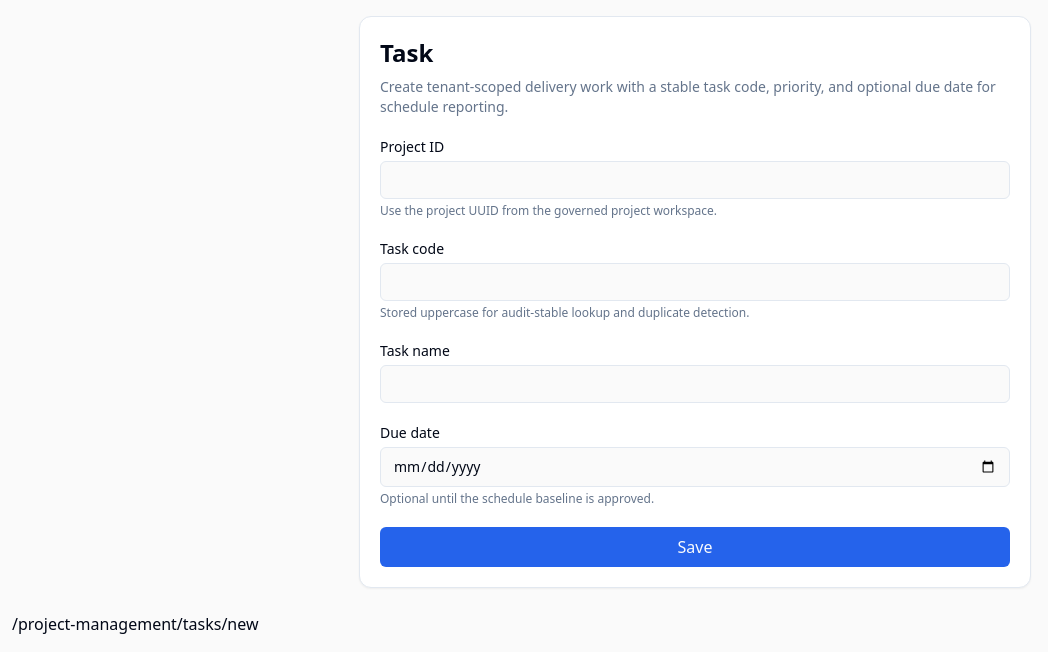
Test: project management module pages › creates a task through the real form and navigates to the saved task
In the field labelled "Project ID": (695, 180) [380,161,1010,199], type "project-1"
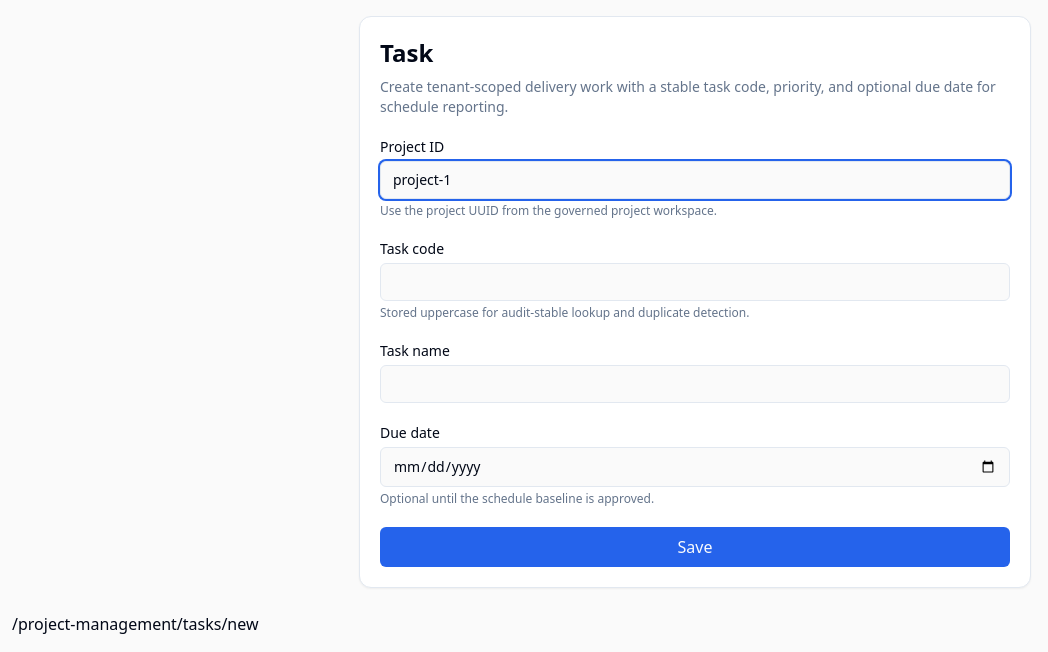
In the field labelled "Task code": (695, 282) [380,263,1010,301], type "task-1"
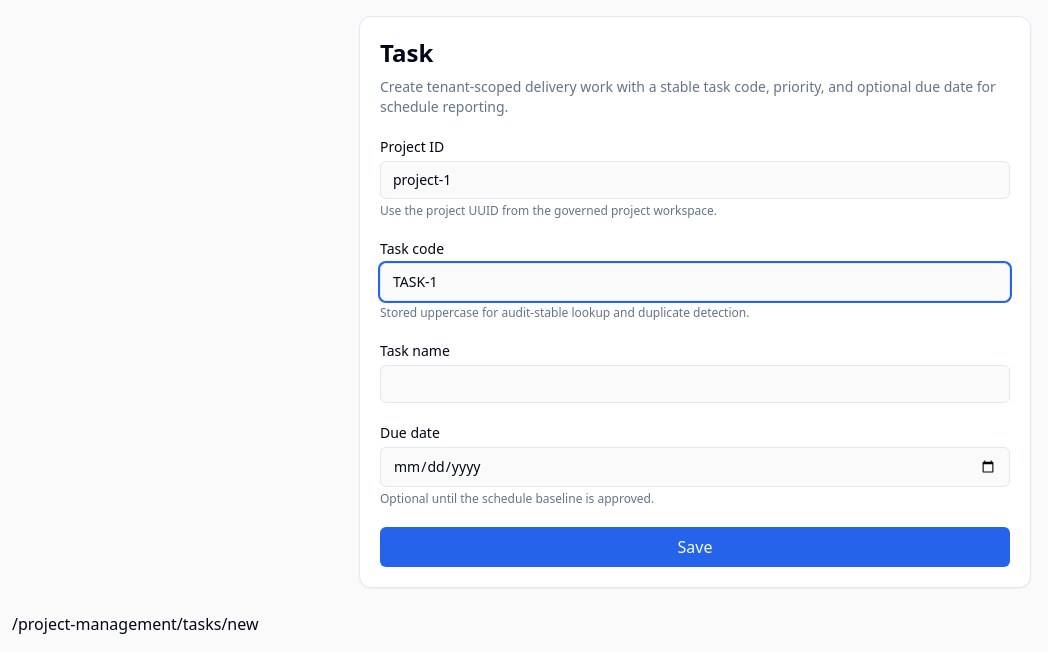
In the field labelled "Task name": (695, 384) [380,365,1010,403], type "Pour slab"
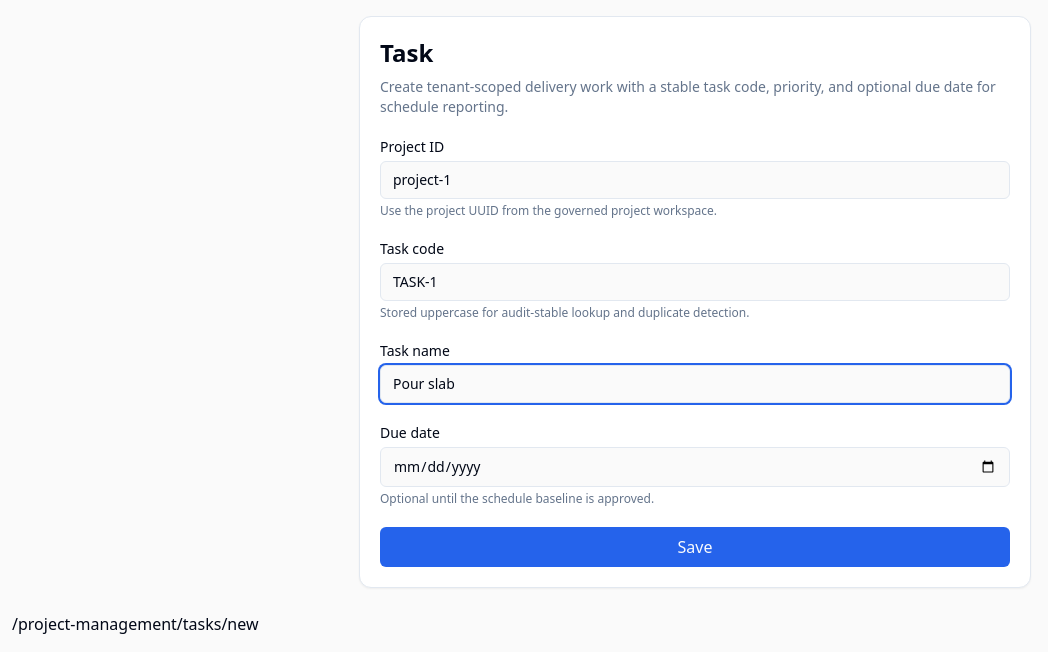
Click the button "Save": (695, 547) [380,527,1010,567]
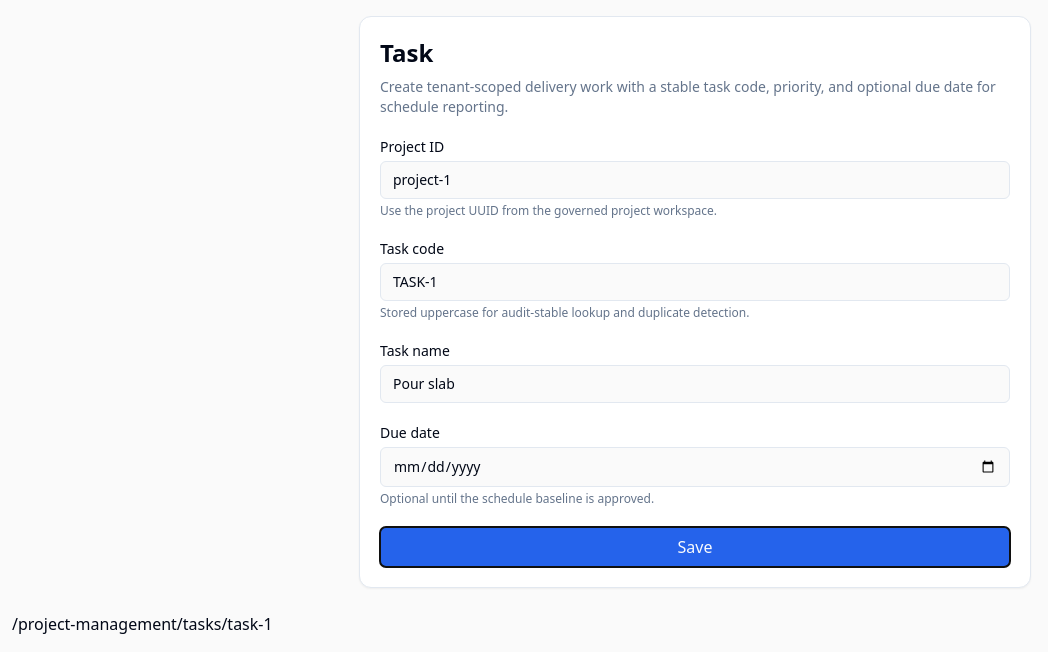
expect the text named "location" reads "/project-management/tasks/task-1": met, box [12,613,273,635]
